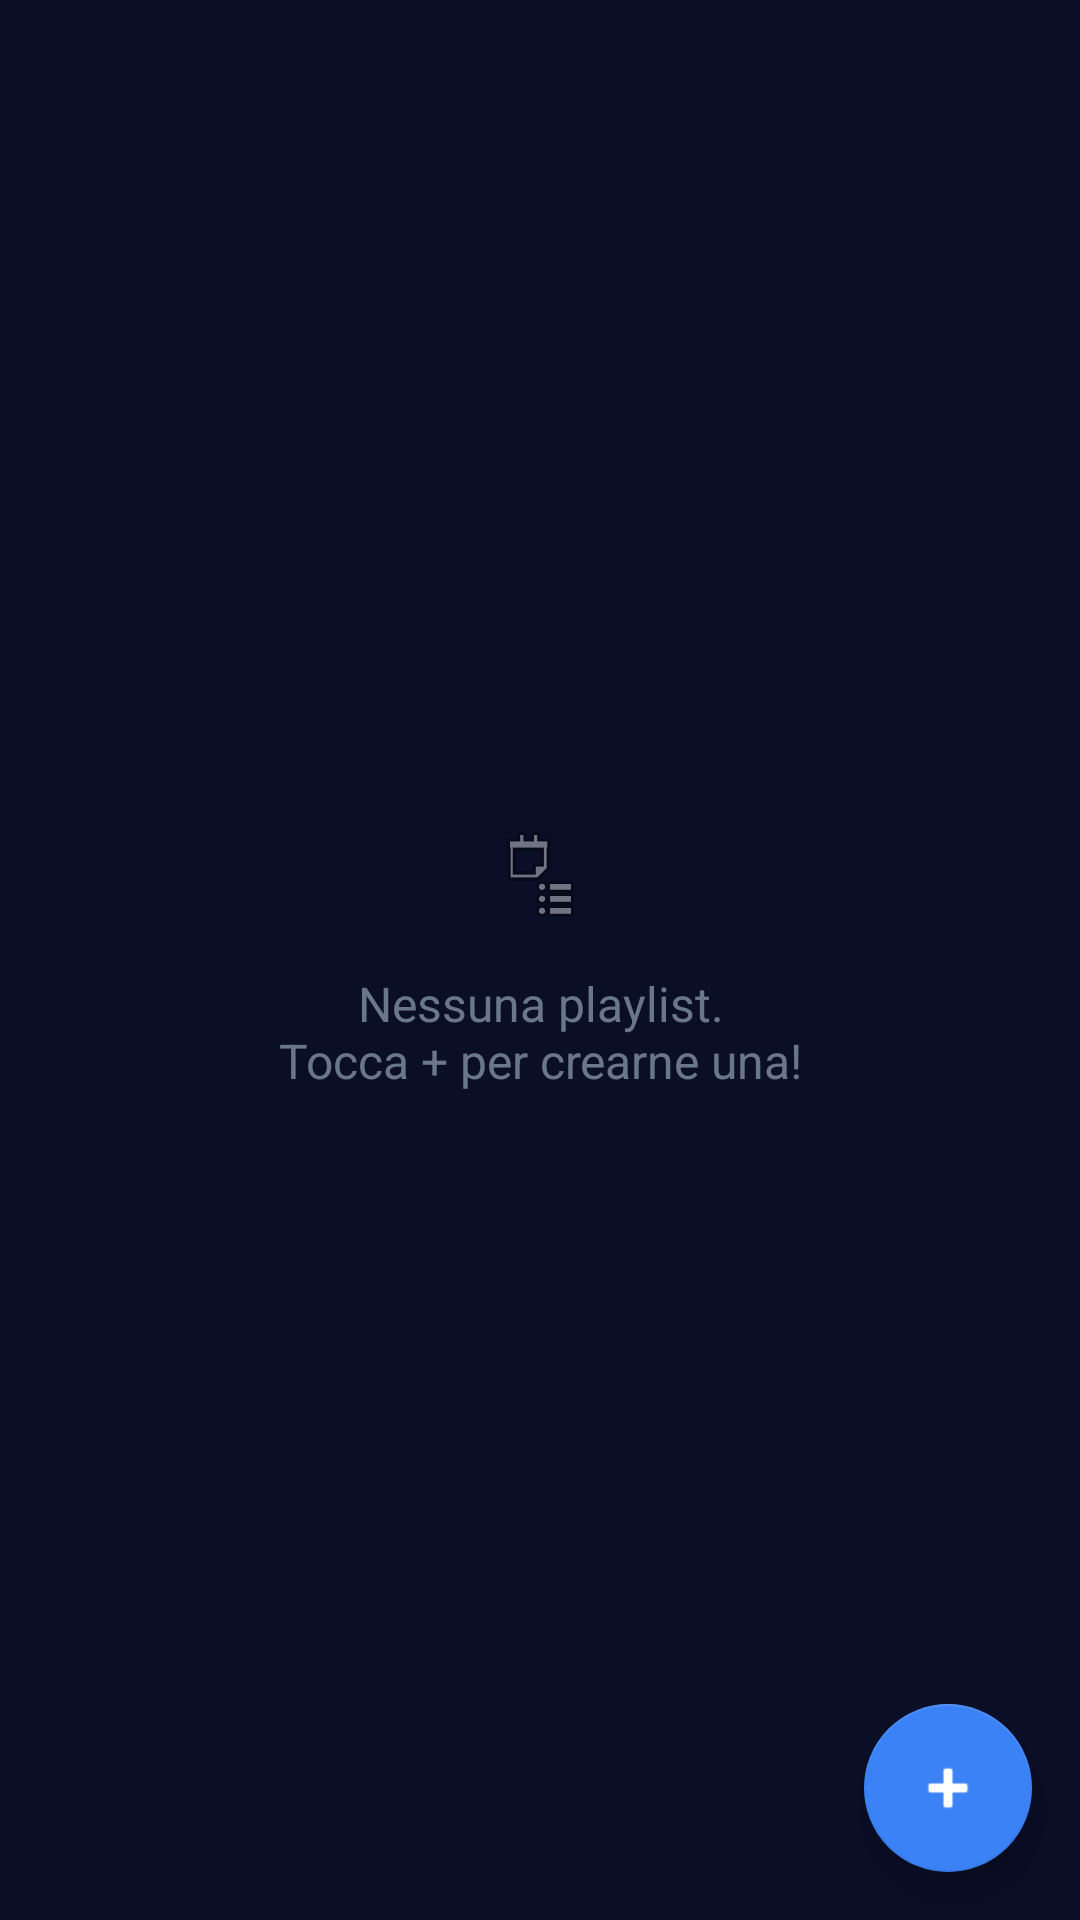

Icons on this 1080*1920 Android screen, each with the point to tap as [x,y]:
Crea nuova playlist: [948,1788]
